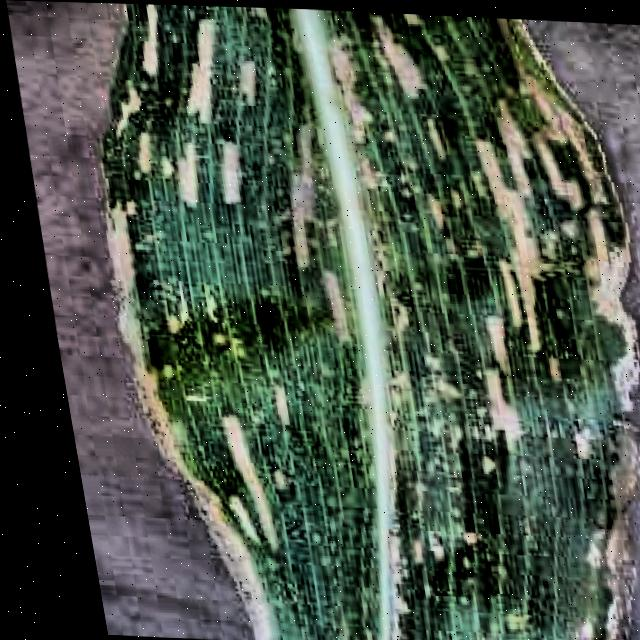gray_spot: (52, 2, 640, 640)
